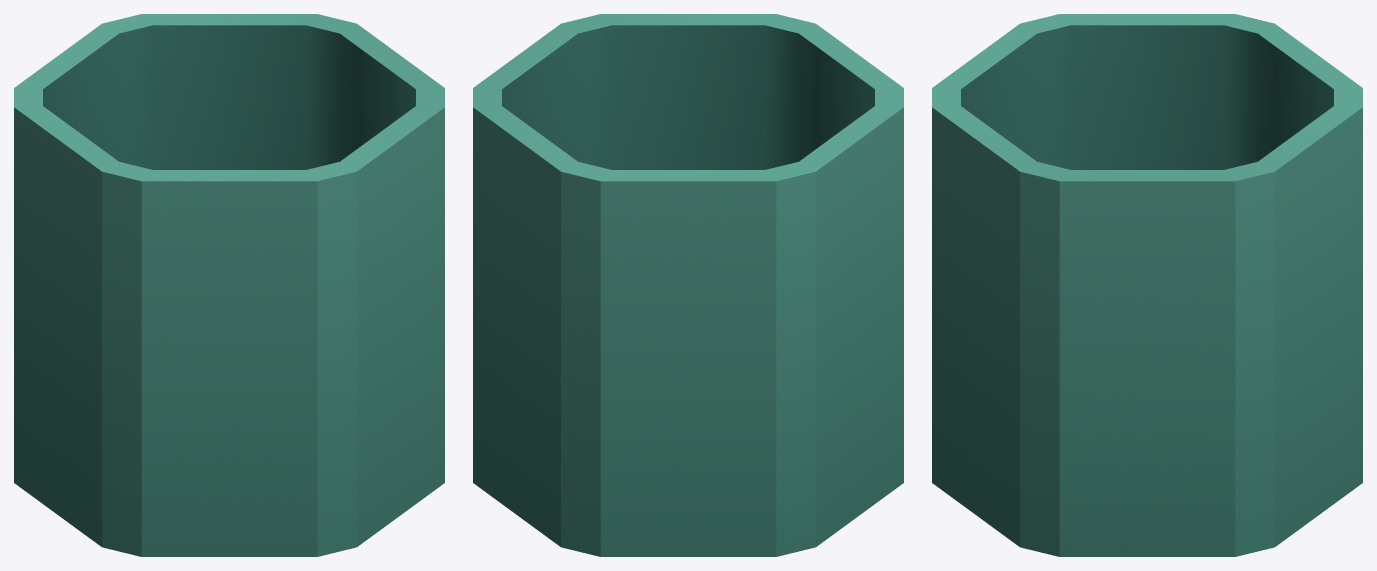
File: L2_Stationery Holder.fbx
3 renders of one model, left to right at view 1: azimuth 30°, elevation 25°; view 2: azimuth 150°, elevation 25°; view 3: azimuth 270°, elevation 25°, orthographic.
Parts seen in each view (by area): view 1: Gengon001; view 2: Gengon001; view 3: Gengon001.
Part boxes in pixels (<box>): Gengon001: <box>14,14,444,556</box>; Gengon001: <box>473,14,903,556</box>; Gengon001: <box>932,14,1362,556</box>.
Bounding box in the file's own units: 9.55 × 10 × 10.39.
1 material, 1 textured.
